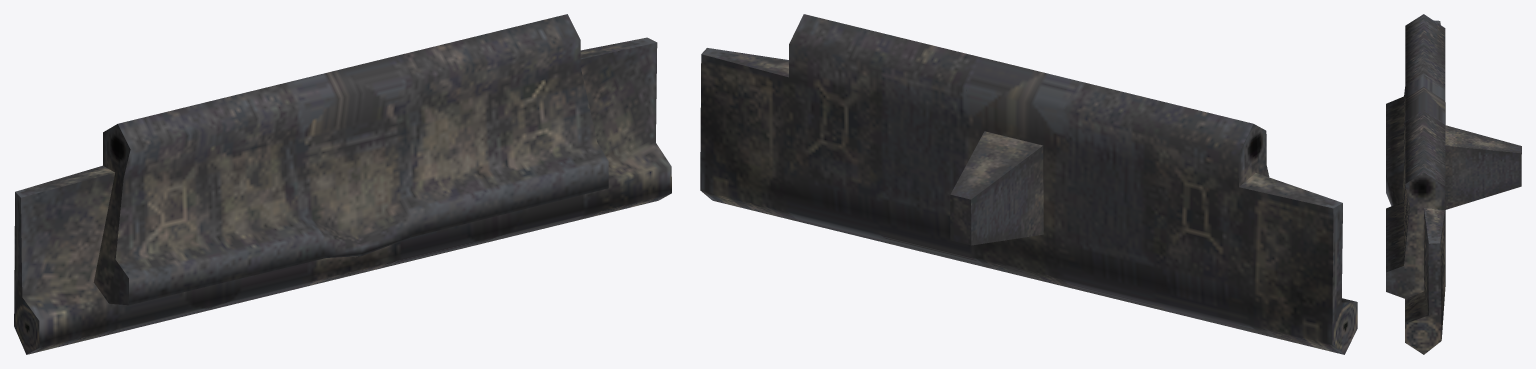
File: Objects777_track.glb
3 renders of one model, left to right at view 1: azimuth 30°, elevation 25°; view 2: azimuth 150°, elevation 25°; view 3: azimuth 270°, elevation 25°, orthographic. The views are drawn at different scales.
Visible parts, largest first — view 1: set_0_group_0; view 2: set_0_group_0; view 3: set_0_group_0.
Part boxes in pixels (left/top/right/bottom): set_0_group_0: left=14, top=14, right=671, bottom=354; set_0_group_0: left=700, top=14, right=1357, bottom=354; set_0_group_0: left=1386, top=14, right=1521, bottom=354.
Bounding box in the file's own units: 0.6995 × 0.2197 × 0.1792.
1 material, 1 textured.
